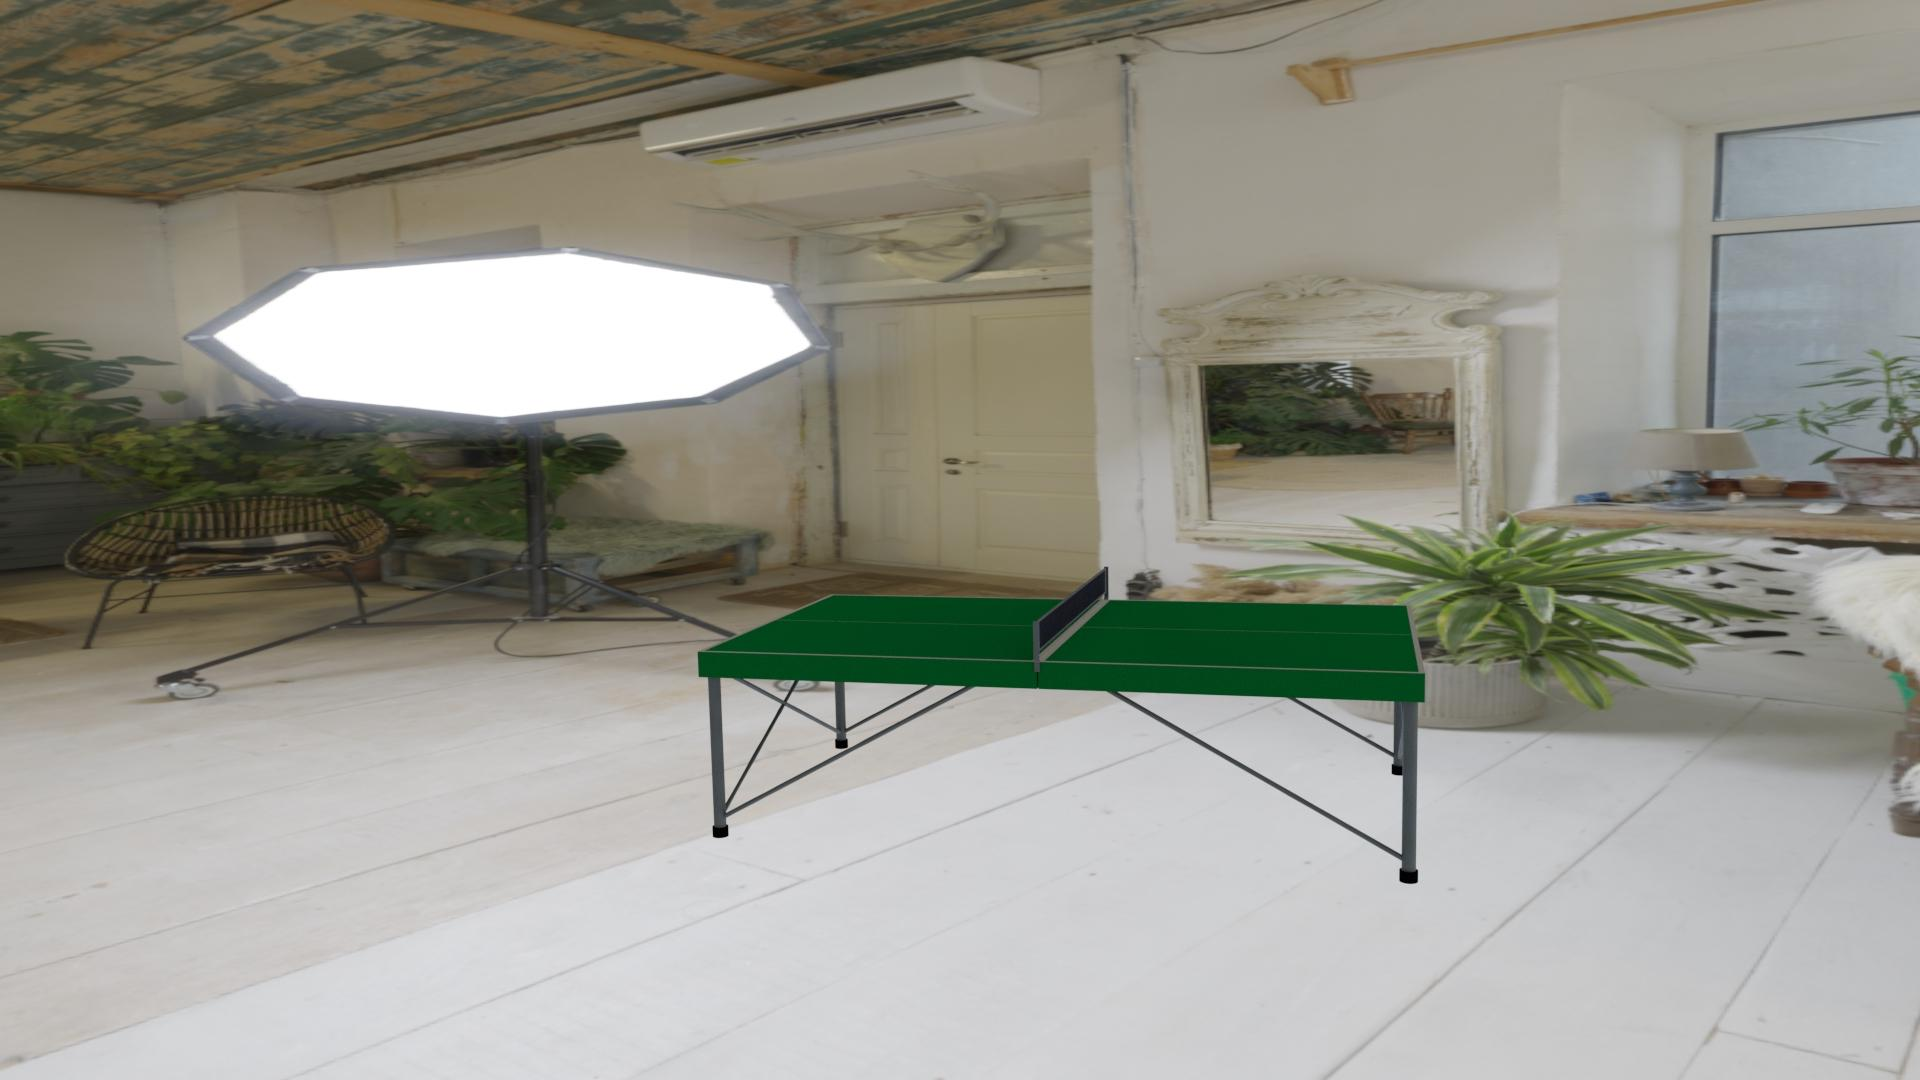table: (704, 595, 1419, 673)
